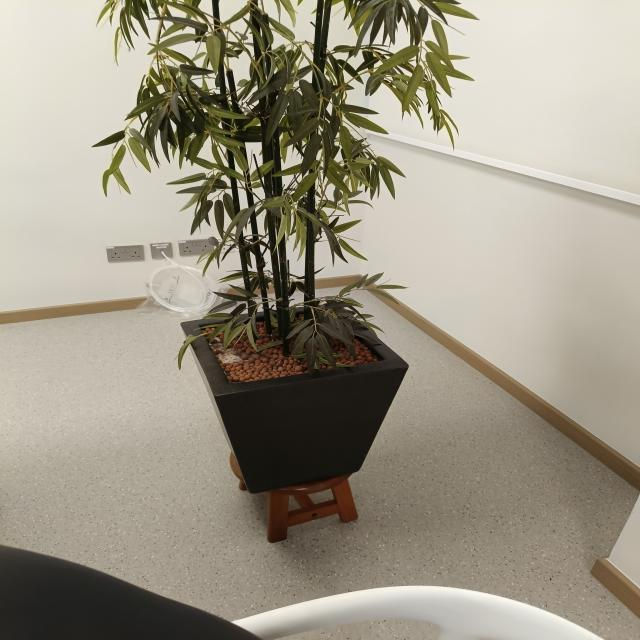Pot: (182, 298, 410, 495)
